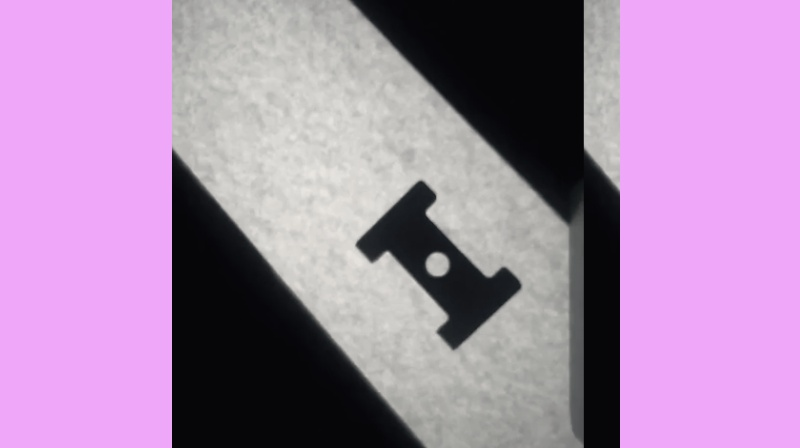O002: (352, 175, 523, 352)
